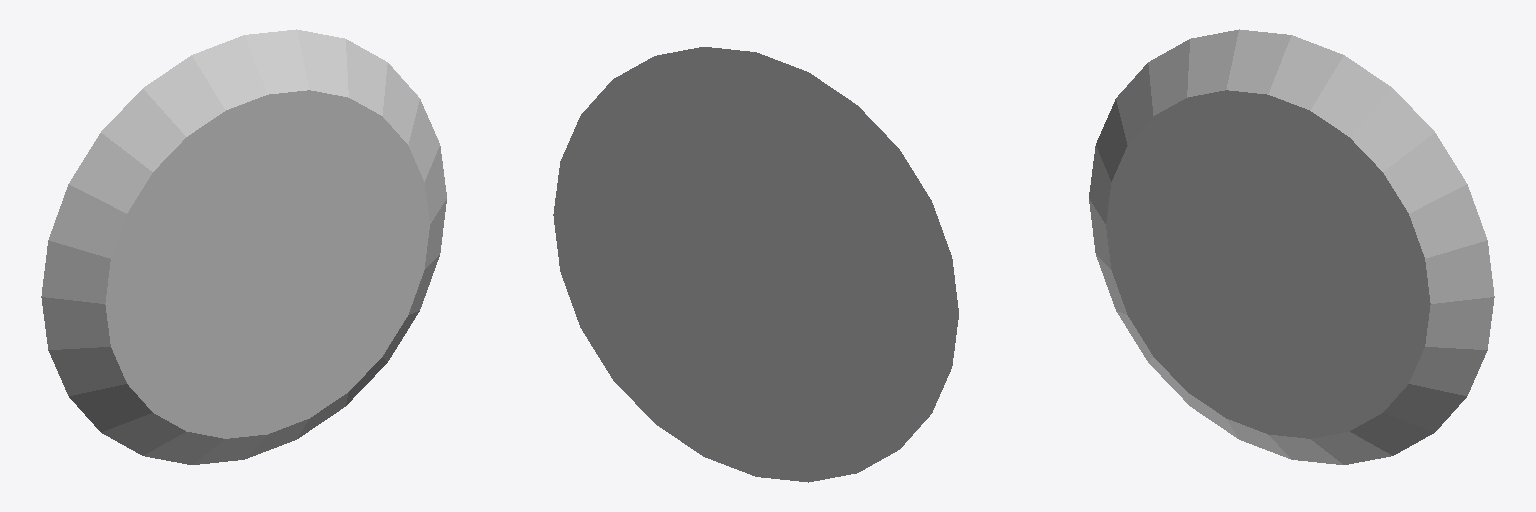
Rendered from original-13.obj.
3 renders of one model, left to right at view 1: azimuth 30°, elevation 25°; view 2: azimuth 150°, elevation 25°; view 3: azimuth 330°, elevation 25°, orthographic.
Visible parts, largest first — view 1: Group13/mesh56/mesh56-geometry#mesh56-geometry; view 2: Group13/mesh56/mesh56-geometry#mesh56-geometry; view 3: Group13/mesh56/mesh56-geometry#mesh56-geometry.
Part boxes in pixels (left/top/right/bottom): Group13/mesh56/mesh56-geometry#mesh56-geometry: left=41, top=29, right=446, bottom=464; Group13/mesh56/mesh56-geometry#mesh56-geometry: left=553, top=47, right=958, bottom=482; Group13/mesh56/mesh56-geometry#mesh56-geometry: left=1089, top=29, right=1494, bottom=464.
Size of the model in its own units: 0.0646 by 0.0646 by 0.0065.